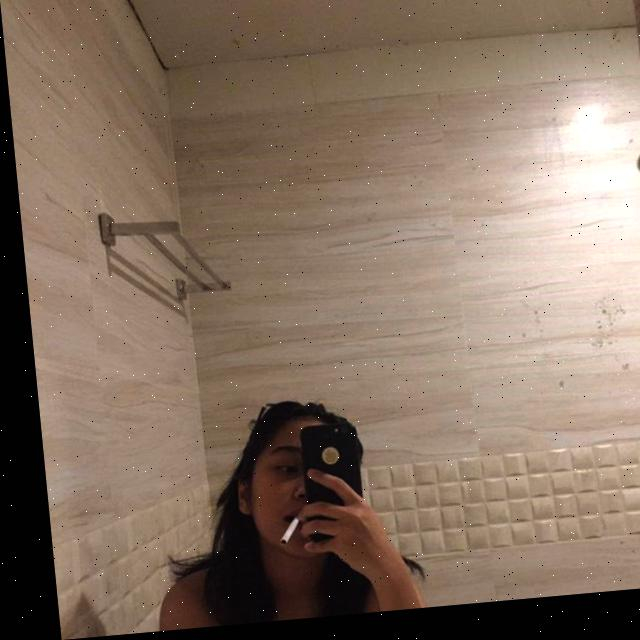cigarette: (267, 520, 291, 551)
